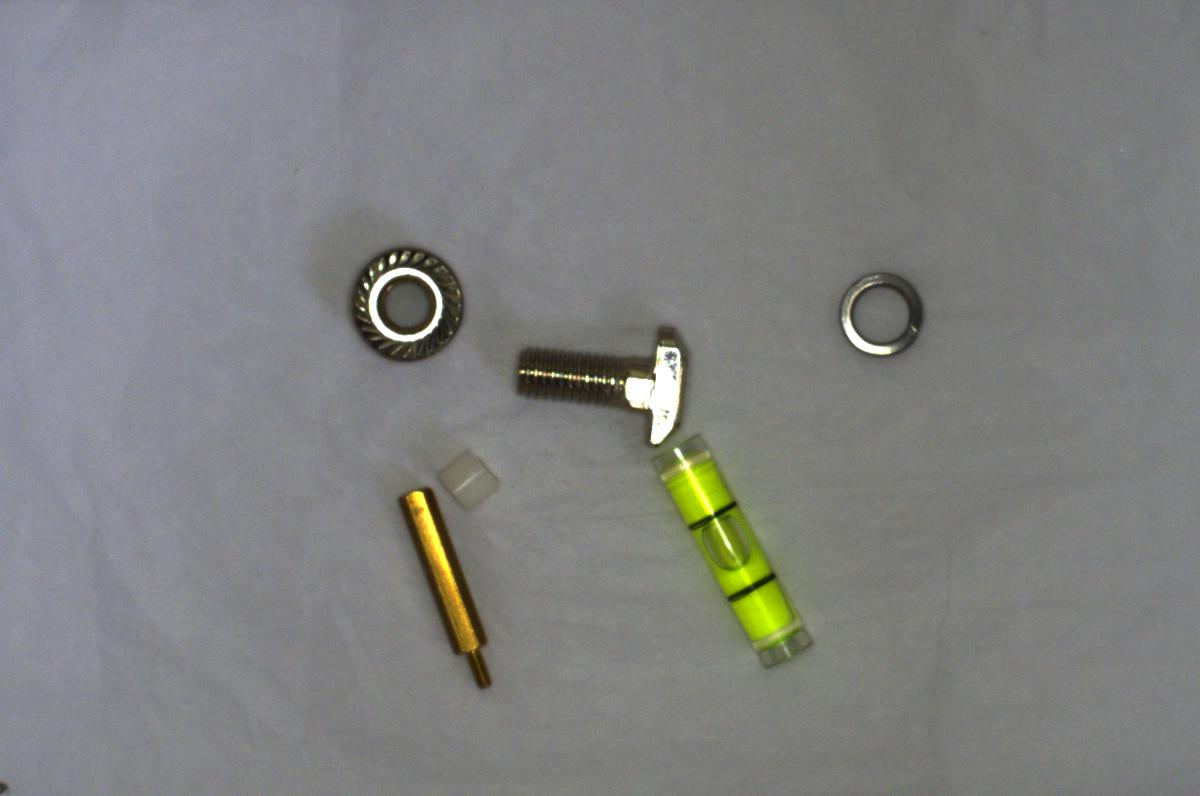Flange nut: (337, 234, 477, 366)
Hexagon pillar: (397, 480, 502, 689)
Horizontal bubble: (642, 426, 819, 674)
Plastic cushion pillar: (433, 443, 507, 515)
Spring washer: (828, 260, 926, 366)
T-shaped screw: (506, 313, 690, 449)
